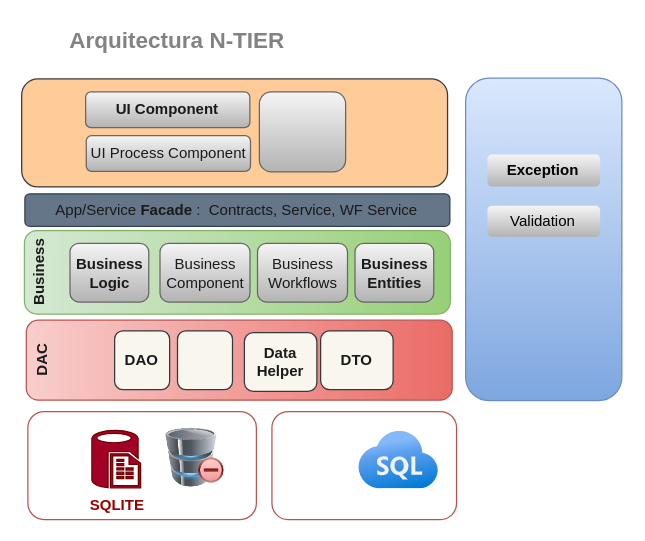
This 645x541 diagram has some shape labels left out. The shapes that lost their labels are listed below. From the top down, each one's box as (x1, y1, x2, y2) in pixels, then its label:
(20, 78, 448, 187): User Interface
(258, 91, 346, 172): Controller UIC
(464, 77, 622, 401): Framework
(176, 330, 232, 390): IDAO
(27, 410, 256, 520): Data Sources
(271, 410, 456, 520): Data Service
